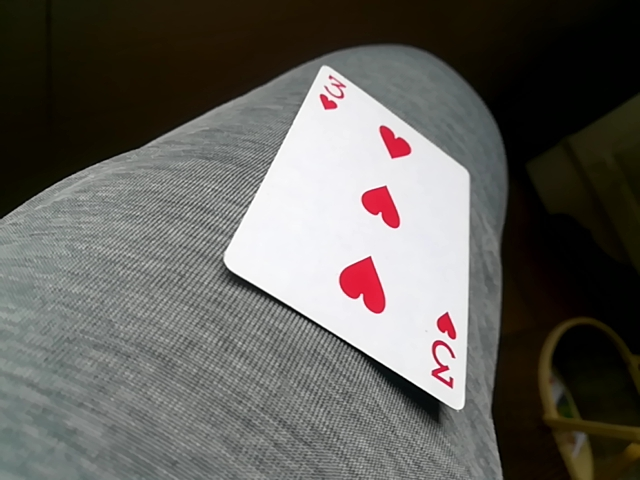hx 3: (223, 54, 479, 413)
